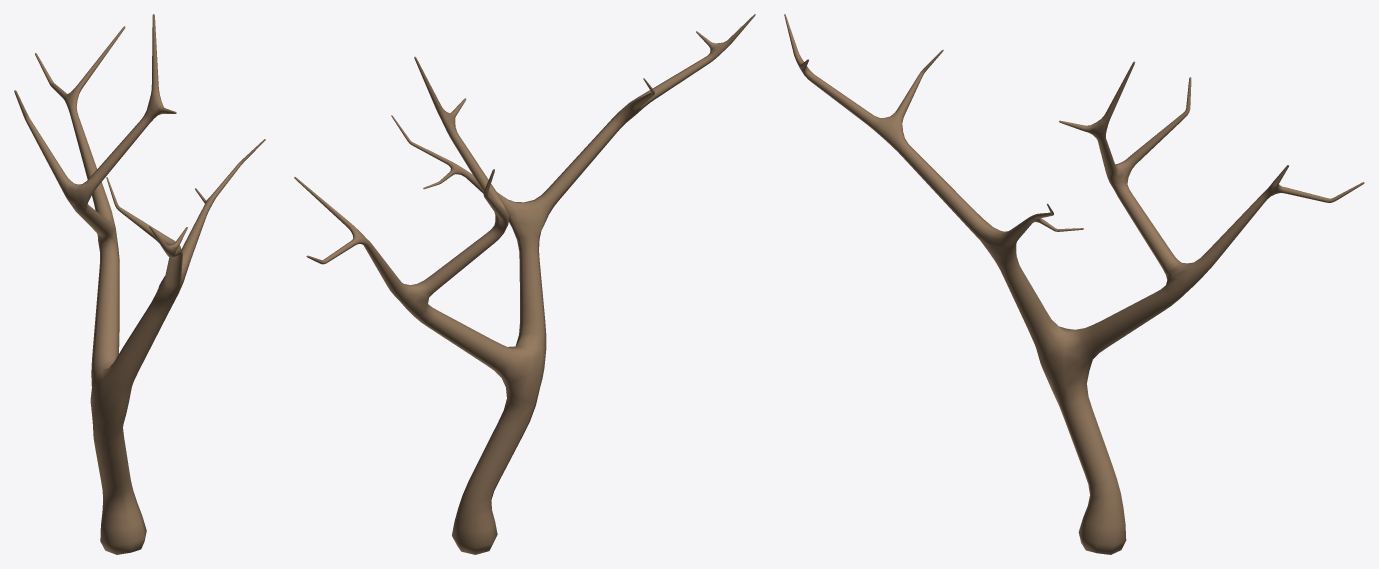
The model's file is Tree_Dead_02_LOD01.fbx.
3 renders of one model, left to right at view 1: azimuth 30°, elevation 25°; view 2: azimuth 150°, elevation 25°; view 3: azimuth 270°, elevation 25°, orthographic. The views are drawn at different scales.
Parts seen in each view (by area): view 1: Tree_Dead_02_LOD01_Geometry; view 2: Tree_Dead_02_LOD01_Geometry; view 3: Tree_Dead_02_LOD01_Geometry.
Part boxes in pixels (bbox=[...]): Tree_Dead_02_LOD01_Geometry: bbox=[14, 14, 265, 554]; Tree_Dead_02_LOD01_Geometry: bbox=[294, 14, 755, 554]; Tree_Dead_02_LOD01_Geometry: bbox=[784, 14, 1364, 554].
Size of the model in its own units: 3.29 by 6.53 by 6.69.
